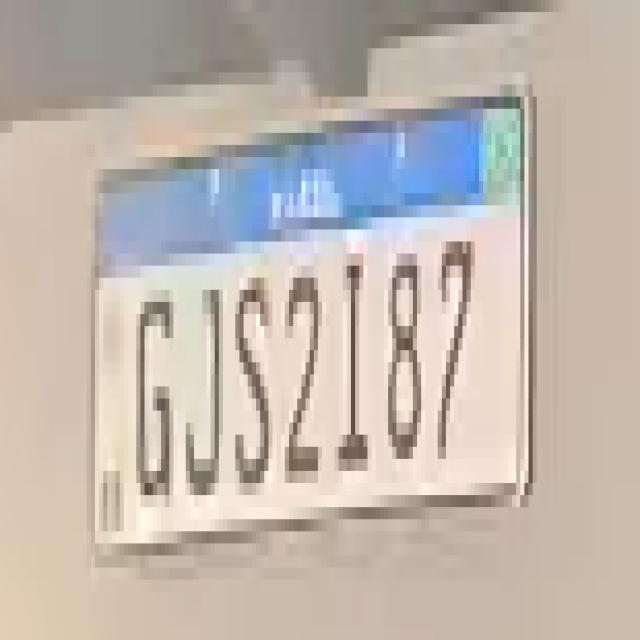Placa_mercosul_carro: (89, 89, 533, 557)
